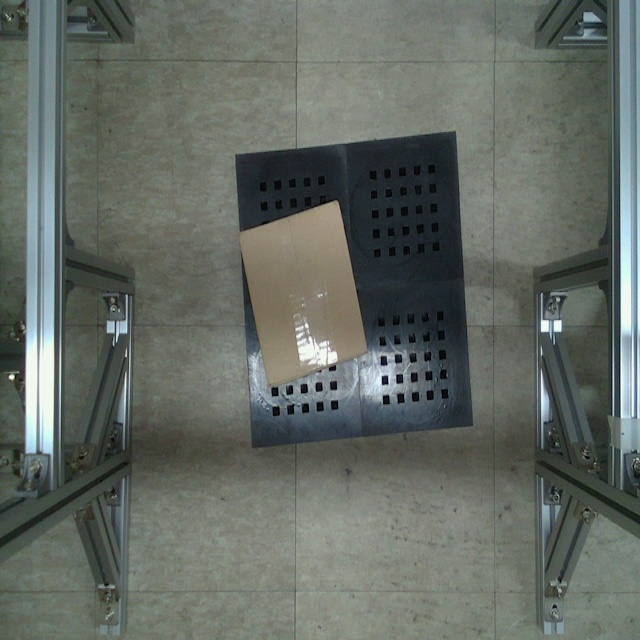box: (235, 196, 369, 388)
pallet: (228, 125, 486, 458)
